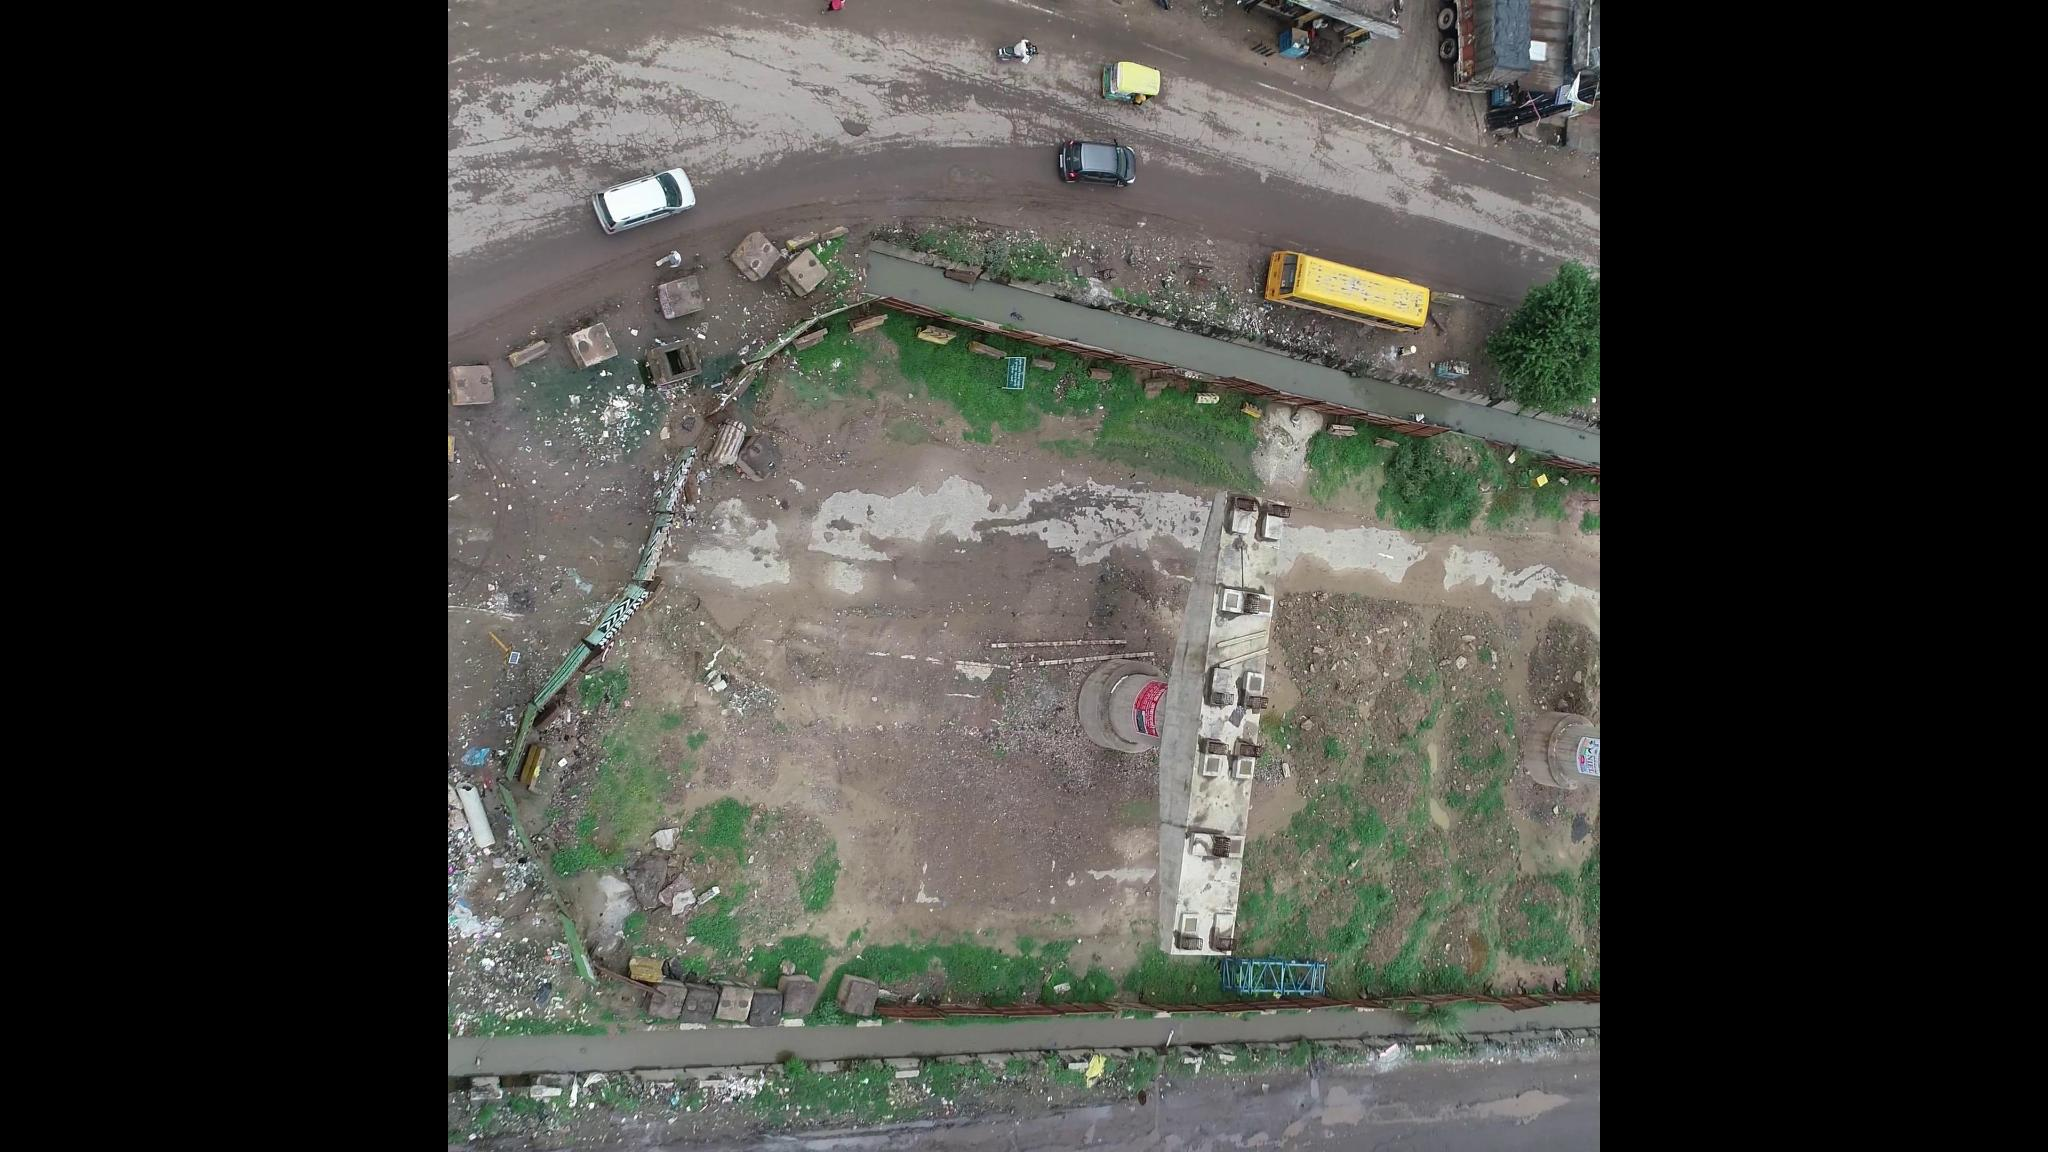Cracks: (888, 66, 1099, 131)
